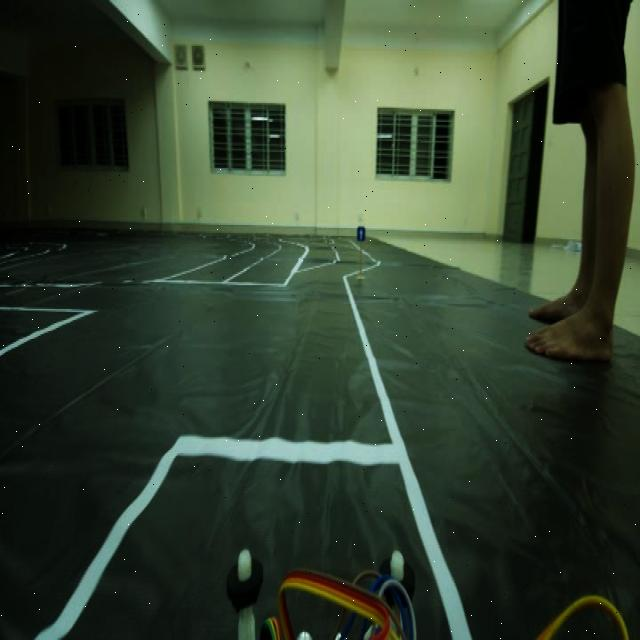onewayroad: (355, 220, 369, 246)
